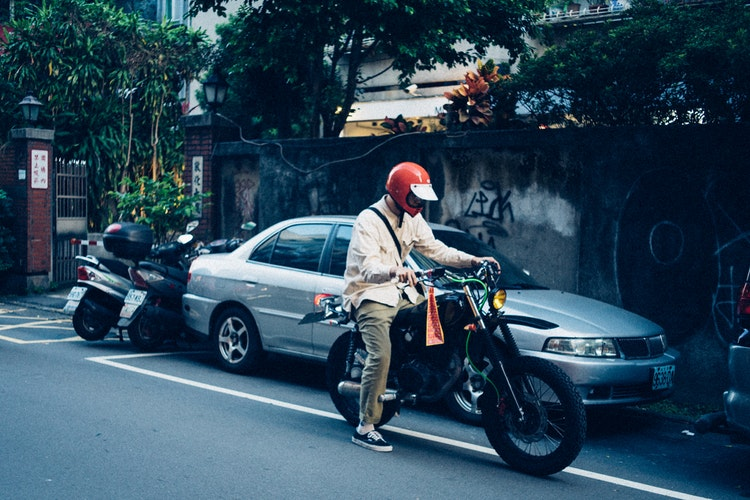helmet: (384, 160, 436, 216)
